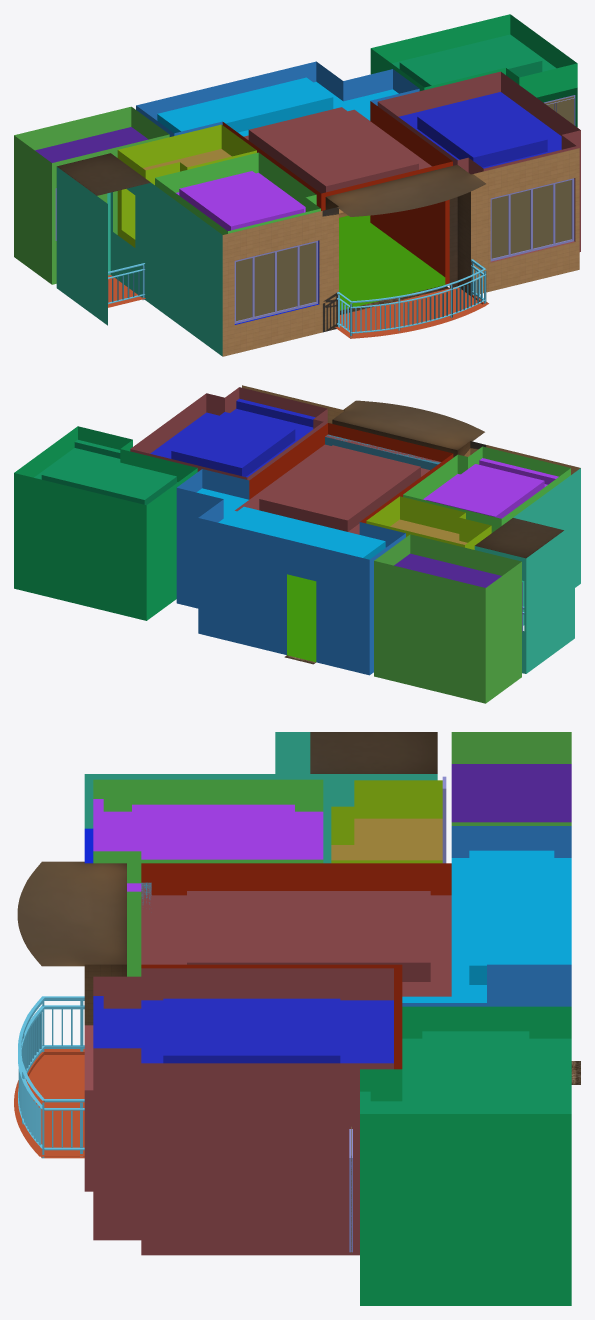
The model's file is Wall&floor.FBX.
3 renders of one model, top to bottom at view 1: azimuth 30°, elevation 25°; view 2: azimuth 150°, elevation 25°; view 3: azimuth 270°, elevation 25°, orthographic. The views are drawn at different scales.
Visible parts, largest first — view 1: Balcony01_Wall, Balcony02_wall01, ChildrenRoom_Window_glass, LivingRoom_Celing, Kitchen_Wall, Bedroom_Ceiling, Study_Wall, LivingRoom_Wall, DiningRoom_Ceiling, LivingRoom_Floor01, Bedroom_Wall01, DiningRoom_Wall (+13 smaller); view 2: DiningRoom_Wall, Study_Wall, Kitchen_Wall, LivingRoom_Celing, Balcony02_wall01, Bedroom_Ceiling, Study_Celing, ChildrenRoom_Ceiling, DiningRoom_Ceiling, Balcony01_Ceiling, Bedroom_Wall01, LivingRoom_Wall (+8 smaller); view 3: Bedroom_Wall01, Study_Wall, LivingRoom_Celing, Bedroom_Ceiling, DiningRoom_Ceiling, Study_Celing, ChildrenRoom_Ceiling, LivingRoom_Wall, Balcony01_Ceiling, ChildrenRoom_Wall01, DiningRoom_Wall, Kitchen_ceiling (+9 smaller).
Boxes of the visible parts, x1,y1,x2,y2 form: Balcony01_Wall: (222, 148, 579, 356); Balcony02_wall01: (56, 167, 222, 356); ChildrenRoom_Window_glass: (236, 96, 573, 321); LivingRoom_Celing: (244, 107, 431, 193); Kitchen_Wall: (14, 106, 169, 284); Bedroom_Ceiling: (398, 92, 561, 168); Study_Wall: (370, 14, 577, 127); LivingRoom_Wall: (222, 101, 452, 284); DiningRoom_Ceiling: (157, 77, 398, 136); LivingRoom_Floor01: (339, 215, 445, 310); Bedroom_Wall01: (377, 71, 580, 262); DiningRoom_Wall: (136, 61, 419, 136); DiningRoom_Wall: (176, 469, 405, 675); Study_Wall: (14, 426, 197, 620); Kitchen_Wall: (374, 534, 521, 703); LivingRoom_Celing: (235, 435, 441, 534); Balcony02_wall01: (474, 468, 580, 673); Bedroom_Ceiling: (150, 398, 315, 477); Study_Celing: (34, 440, 177, 505); ChildrenRoom_Ceiling: (423, 458, 558, 518); DiningRoom_Ceiling: (196, 488, 385, 559); Balcony01_Ceiling: (332, 400, 484, 450); Bedroom_Wall01: (130, 387, 327, 480); LivingRoom_Wall: (249, 423, 453, 523); Bedroom_Wall01: (84, 968, 393, 1255); Study_Wall: (360, 1006, 571, 1305); LivingRoom_Celing: (141, 882, 451, 996); Bedroom_Ceiling: (93, 996, 393, 1063); DiningRoom_Ceiling: (402, 850, 571, 1002); Study_Celing: (360, 1031, 571, 1113); ChildrenRoom_Ceiling: (93, 799, 323, 891); LivingRoom_Wall: (141, 863, 451, 1069); Balcony01_Ceiling: (17, 861, 126, 966); ChildrenRoom_Wall01: (93, 779, 323, 976); DiningRoom_Wall: (402, 826, 571, 1006); Kitchen_ceiling: (451, 764, 571, 822).
Bounding box in the file's own units: 12800 × 8032 × 3000.
